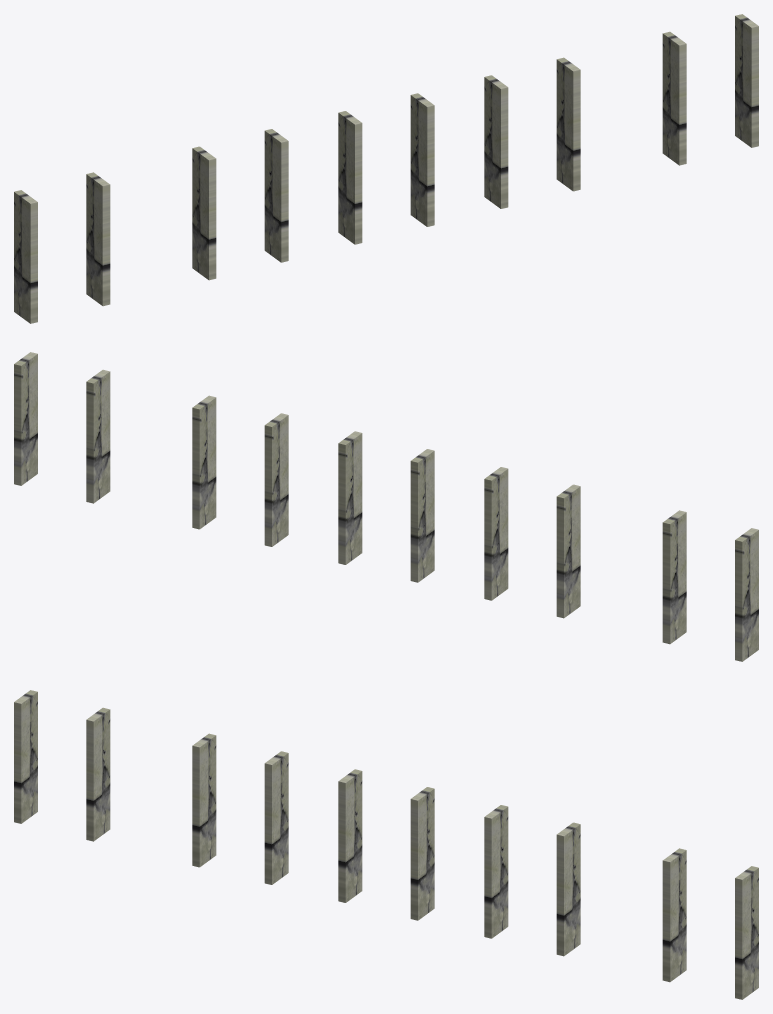
The model's file is SM_LDFest_04_SHADOW.001.fbx.
The picture shows the model from 3 angles, top to bottom: view 1: azimuth 30°, elevation 25°; view 2: azimuth 150°, elevation 25°; view 3: azimuth 330°, elevation 25°; orthographic projection.
Parts seen in each view (by area): view 1: SM_LDFest_04_SHADOW.001; view 2: SM_LDFest_04_SHADOW.001; view 3: SM_LDFest_04_SHADOW.001.
Boxes of the visible parts, x1,y1,x2,y2 form: SM_LDFest_04_SHADOW.001: (14,14,758,323); SM_LDFest_04_SHADOW.001: (14,352,758,661); SM_LDFest_04_SHADOW.001: (14,690,758,999).
Bounding box in the file's own units: 2761 × 435 × 109.
